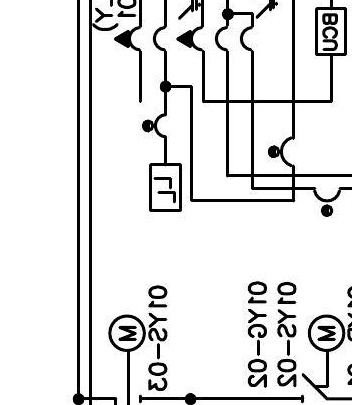BCU: (314, 6, 348, 57)
LL: (149, 163, 182, 212)
